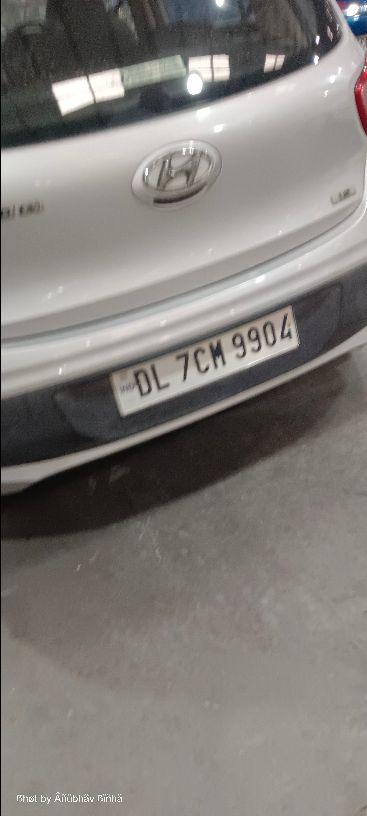license_plate: (108, 303, 301, 418)
